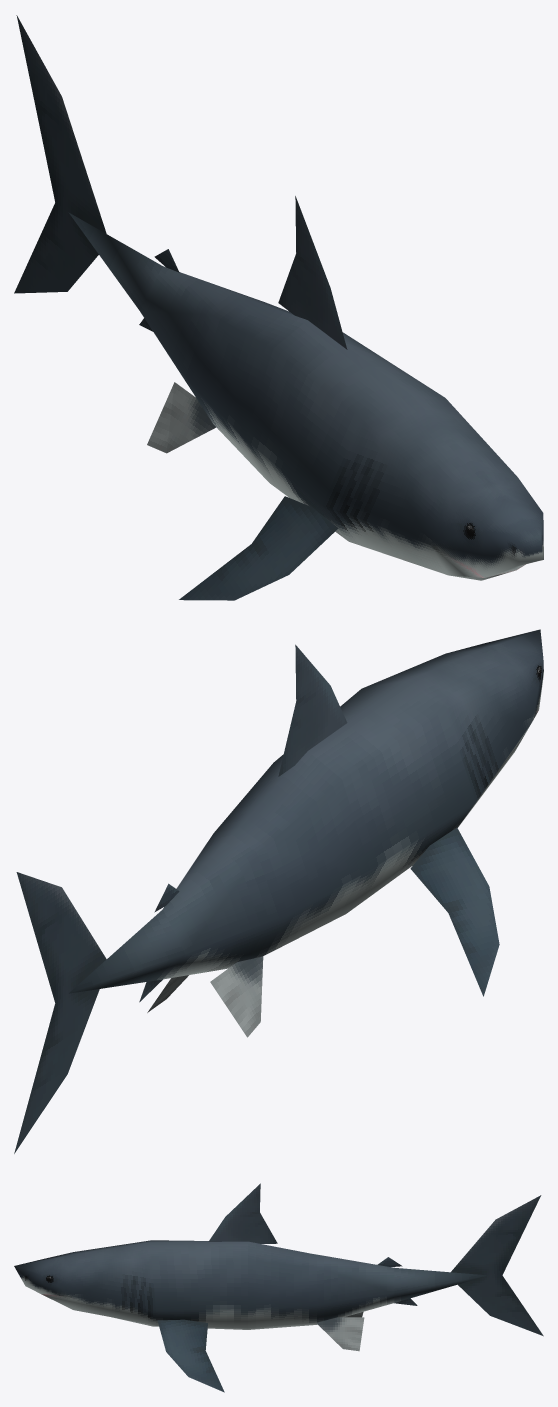
File: shark.glb
3 renders of one model, top to bottom at view 1: azimuth 30°, elevation 25°; view 2: azimuth 150°, elevation 25°; view 3: azimuth 270°, elevation 25°, orthographic. The views are drawn at different scales.
Parts seen in each view (by area): view 1: body, Tail, frontfins, Backfin, rear sym fins; view 2: body, Tail, frontfins, Backfin, rear sym fins; view 3: body, Tail, frontfins, Backfin, rear sym fins.
Part boxes in pixels (box(x1,y1,x2,y2)): body: box(68, 212, 543, 580); Tail: box(14, 15, 106, 293); frontfins: box(179, 496, 338, 600); Backfin: box(278, 196, 347, 349); rear sym fins: box(147, 382, 216, 453); body: box(69, 629, 543, 993); Tail: box(14, 872, 106, 1153); frontfins: box(410, 827, 499, 996); Backfin: box(278, 644, 347, 776); rear sym fins: box(147, 956, 263, 1037); body: box(14, 1240, 488, 1329); Tail: box(451, 1195, 543, 1336); frontfins: box(157, 1319, 224, 1392); Backfin: box(208, 1183, 277, 1243); rear sym fins: box(316, 1312, 364, 1351).
Size of the model in its own units: 2.48 by 2.65 by 7.4.
1 material, 1 textured.
